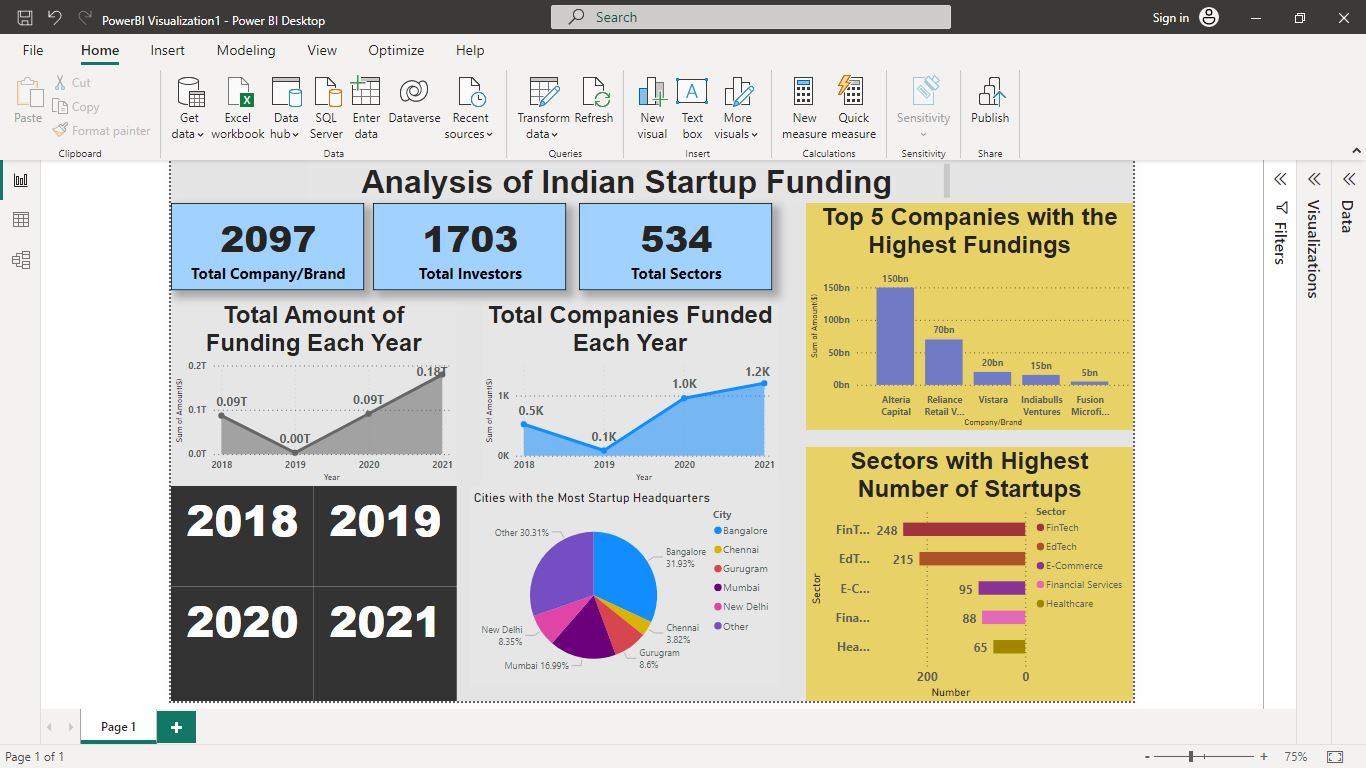

What the dashboard file says about the page in this screenshot:
{"tool":"powerbi","page":{"name":"Page 1","canvas":[1280,720],"ordinal":0},"visuals":[{"type":"clusteredColumnChart","title":"Top 5 Companies with the Highest Fundings","fields":{"Y":["Sum(Sheet1 (2).Amount($))"],"Category":["Sheet1 (2).Company/Brand"]},"box":[844.9,57.1,435.1,302.4],"z":0},{"type":"areaChart","title":"Total Amount of Funding Each Year","fields":{"Category":["Sheet1 (2).Year"],"Y":["Sum(Sheet1 (2).Amount($))"]},"box":[0,188.1,379.6,245.2],"z":1000},{"type":"barChart","title":"Sectors with Highest Number of Startups","fields":{"Category":["Sheet1 (2).Sector"],"Y":["CountNonNull(Sheet1 (2).Company/Brand)"],"Series":["Sheet1 (2).Sector"]},"box":[844.9,381.3,435.1,339.3],"z":2000},{"type":"card","fields":{"Values":["Count(Sheet1 (2).Company/Brand)"]},"box":[0,57.1,257,115.9],"z":3000},{"type":"areaChart","title":"Total Companies Funded Each Year","fields":{"Category":["Sheet1 (2).Year"],"Y":["CountNonNull(Sheet1 (2).Company/Brand)"]},"box":[413.2,188.1,396.4,245.2],"z":4000},{"type":"pieChart","title":"Cities with the Most Startup Headquarters","fields":{"Y":["CountNonNull(Sheet1.Company/Brand)"],"Category":["Sheet1.City (groups)"]},"box":[398.1,433.4,411.5,267.1],"z":5000},{"type":"textbox","box":[179.7,0,861.7,57.1],"z":6000},{"type":"card","fields":{"Values":["Count(Sheet1 (2).Investor)"]},"box":[268.8,57.1,257,115.9],"z":7000},{"type":"card","fields":{"Values":["Count(Sheet1 (2).Sector)"]},"box":[542.6,57.1,257,115.9],"z":8000},{"type":"textbox","box":[0,433.4,189.8,134.4],"z":9000},{"type":"textbox","box":[189.8,433.4,189.8,134.4],"z":10000},{"type":"textbox","box":[189.8,567.8,189.8,152.9],"z":11000},{"type":"textbox","box":[0,567.8,189.8,152.9],"z":12000}]}

Visuals, with their boxes in screenshot pixels (x1, y1, x2, y2):
"Top 5 Companies with the Highest Fundings" clusteredColumnChart: 910,29,1365,371
"Total Amount of Funding Each Year" areaChart: 0,177,383,455
"Sectors with Highest Number of Startups" barChart: 910,396,1365,767
card - Count(Sheet1 (2).Company/Brand): 0,29,244,160
"Total Companies Funded Each Year" areaChart: 421,177,870,455
"Cities with the Most Startup Headquarters" pieChart: 404,455,870,757
textbox: 157,0,1132,29
card - Count(Sheet1 (2).Investor): 258,29,549,160
card - Count(Sheet1 (2).Sector): 568,29,858,160
textbox: 0,455,168,607
textbox: 168,455,383,607
textbox: 168,607,383,767
textbox: 0,607,168,767
